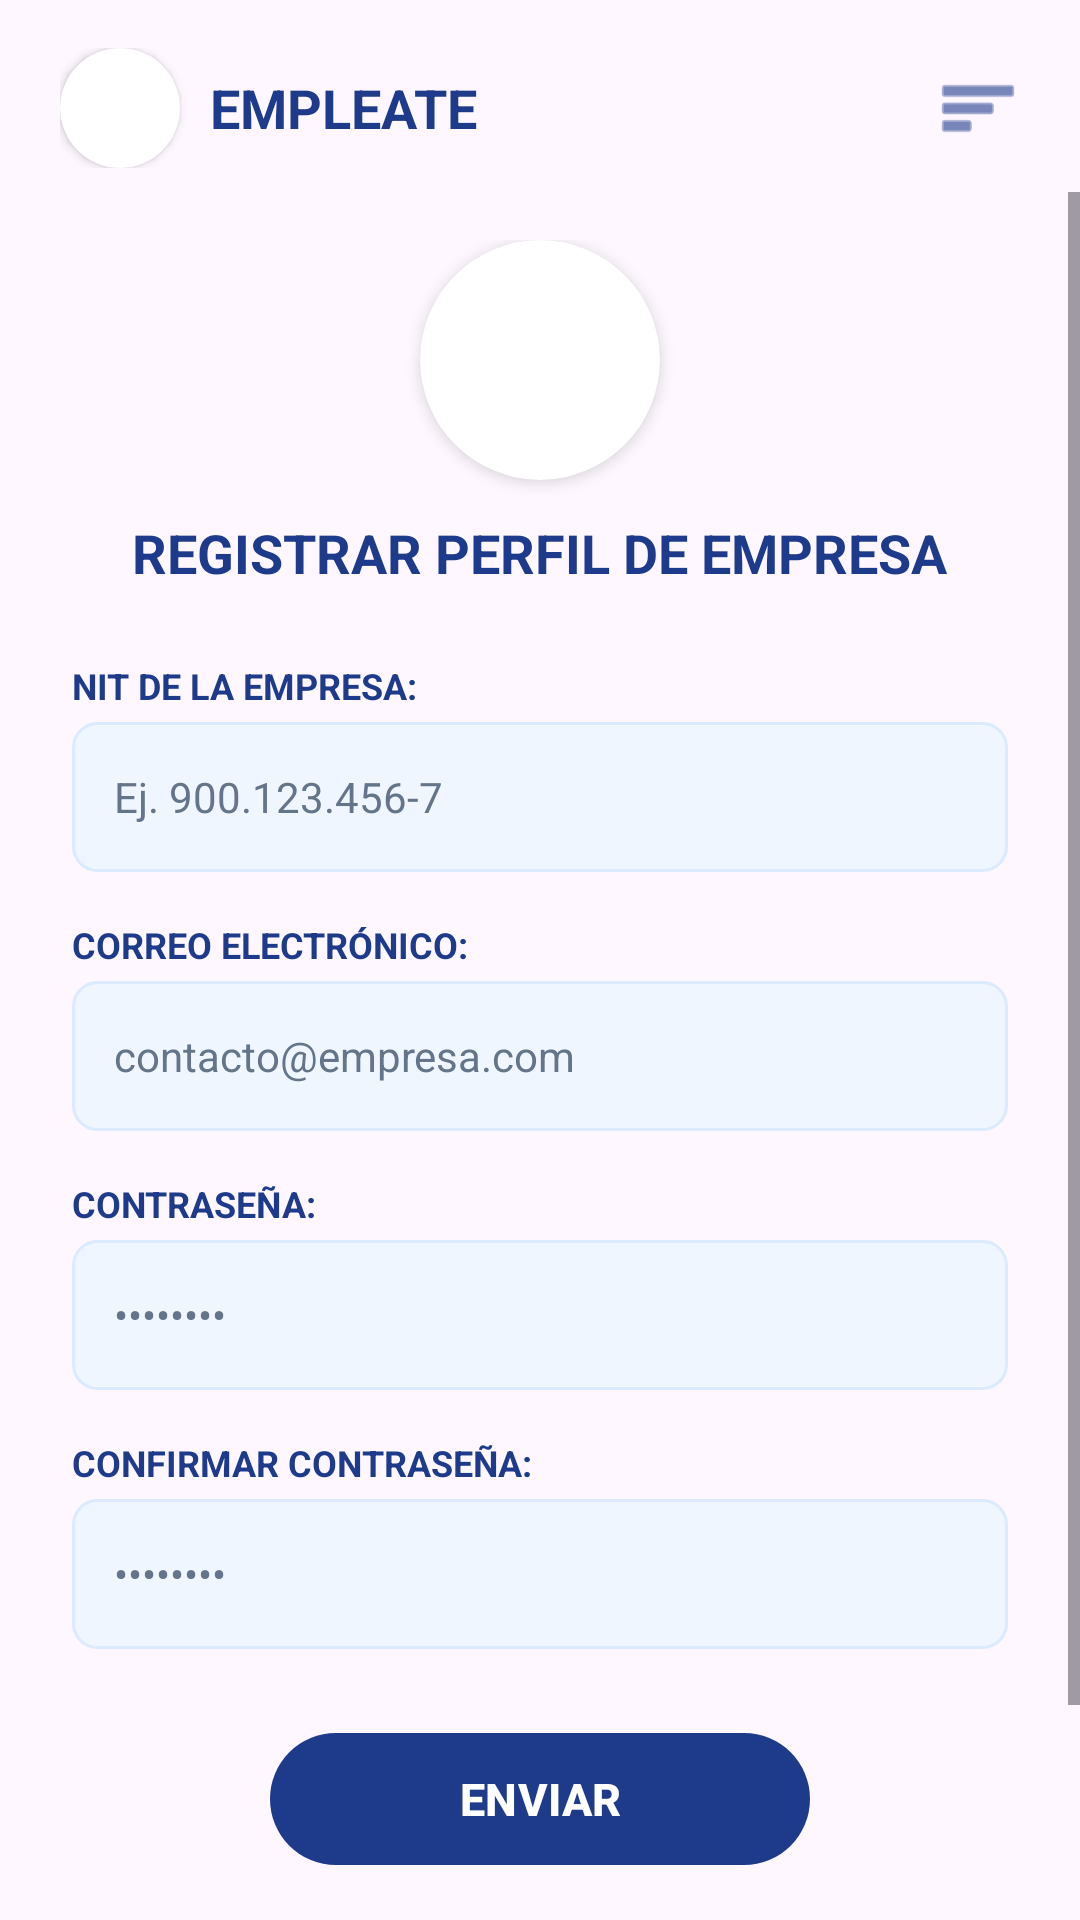

Named icons in this screenshot (1080 × 1920) and their centers, (x,y):
Menú: (978,108)
